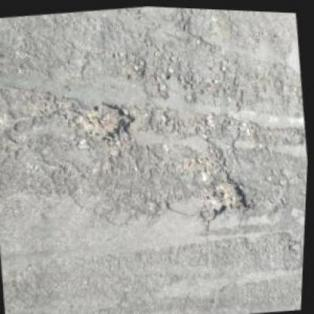Hueco: (81, 95, 139, 144), (200, 172, 253, 220)
